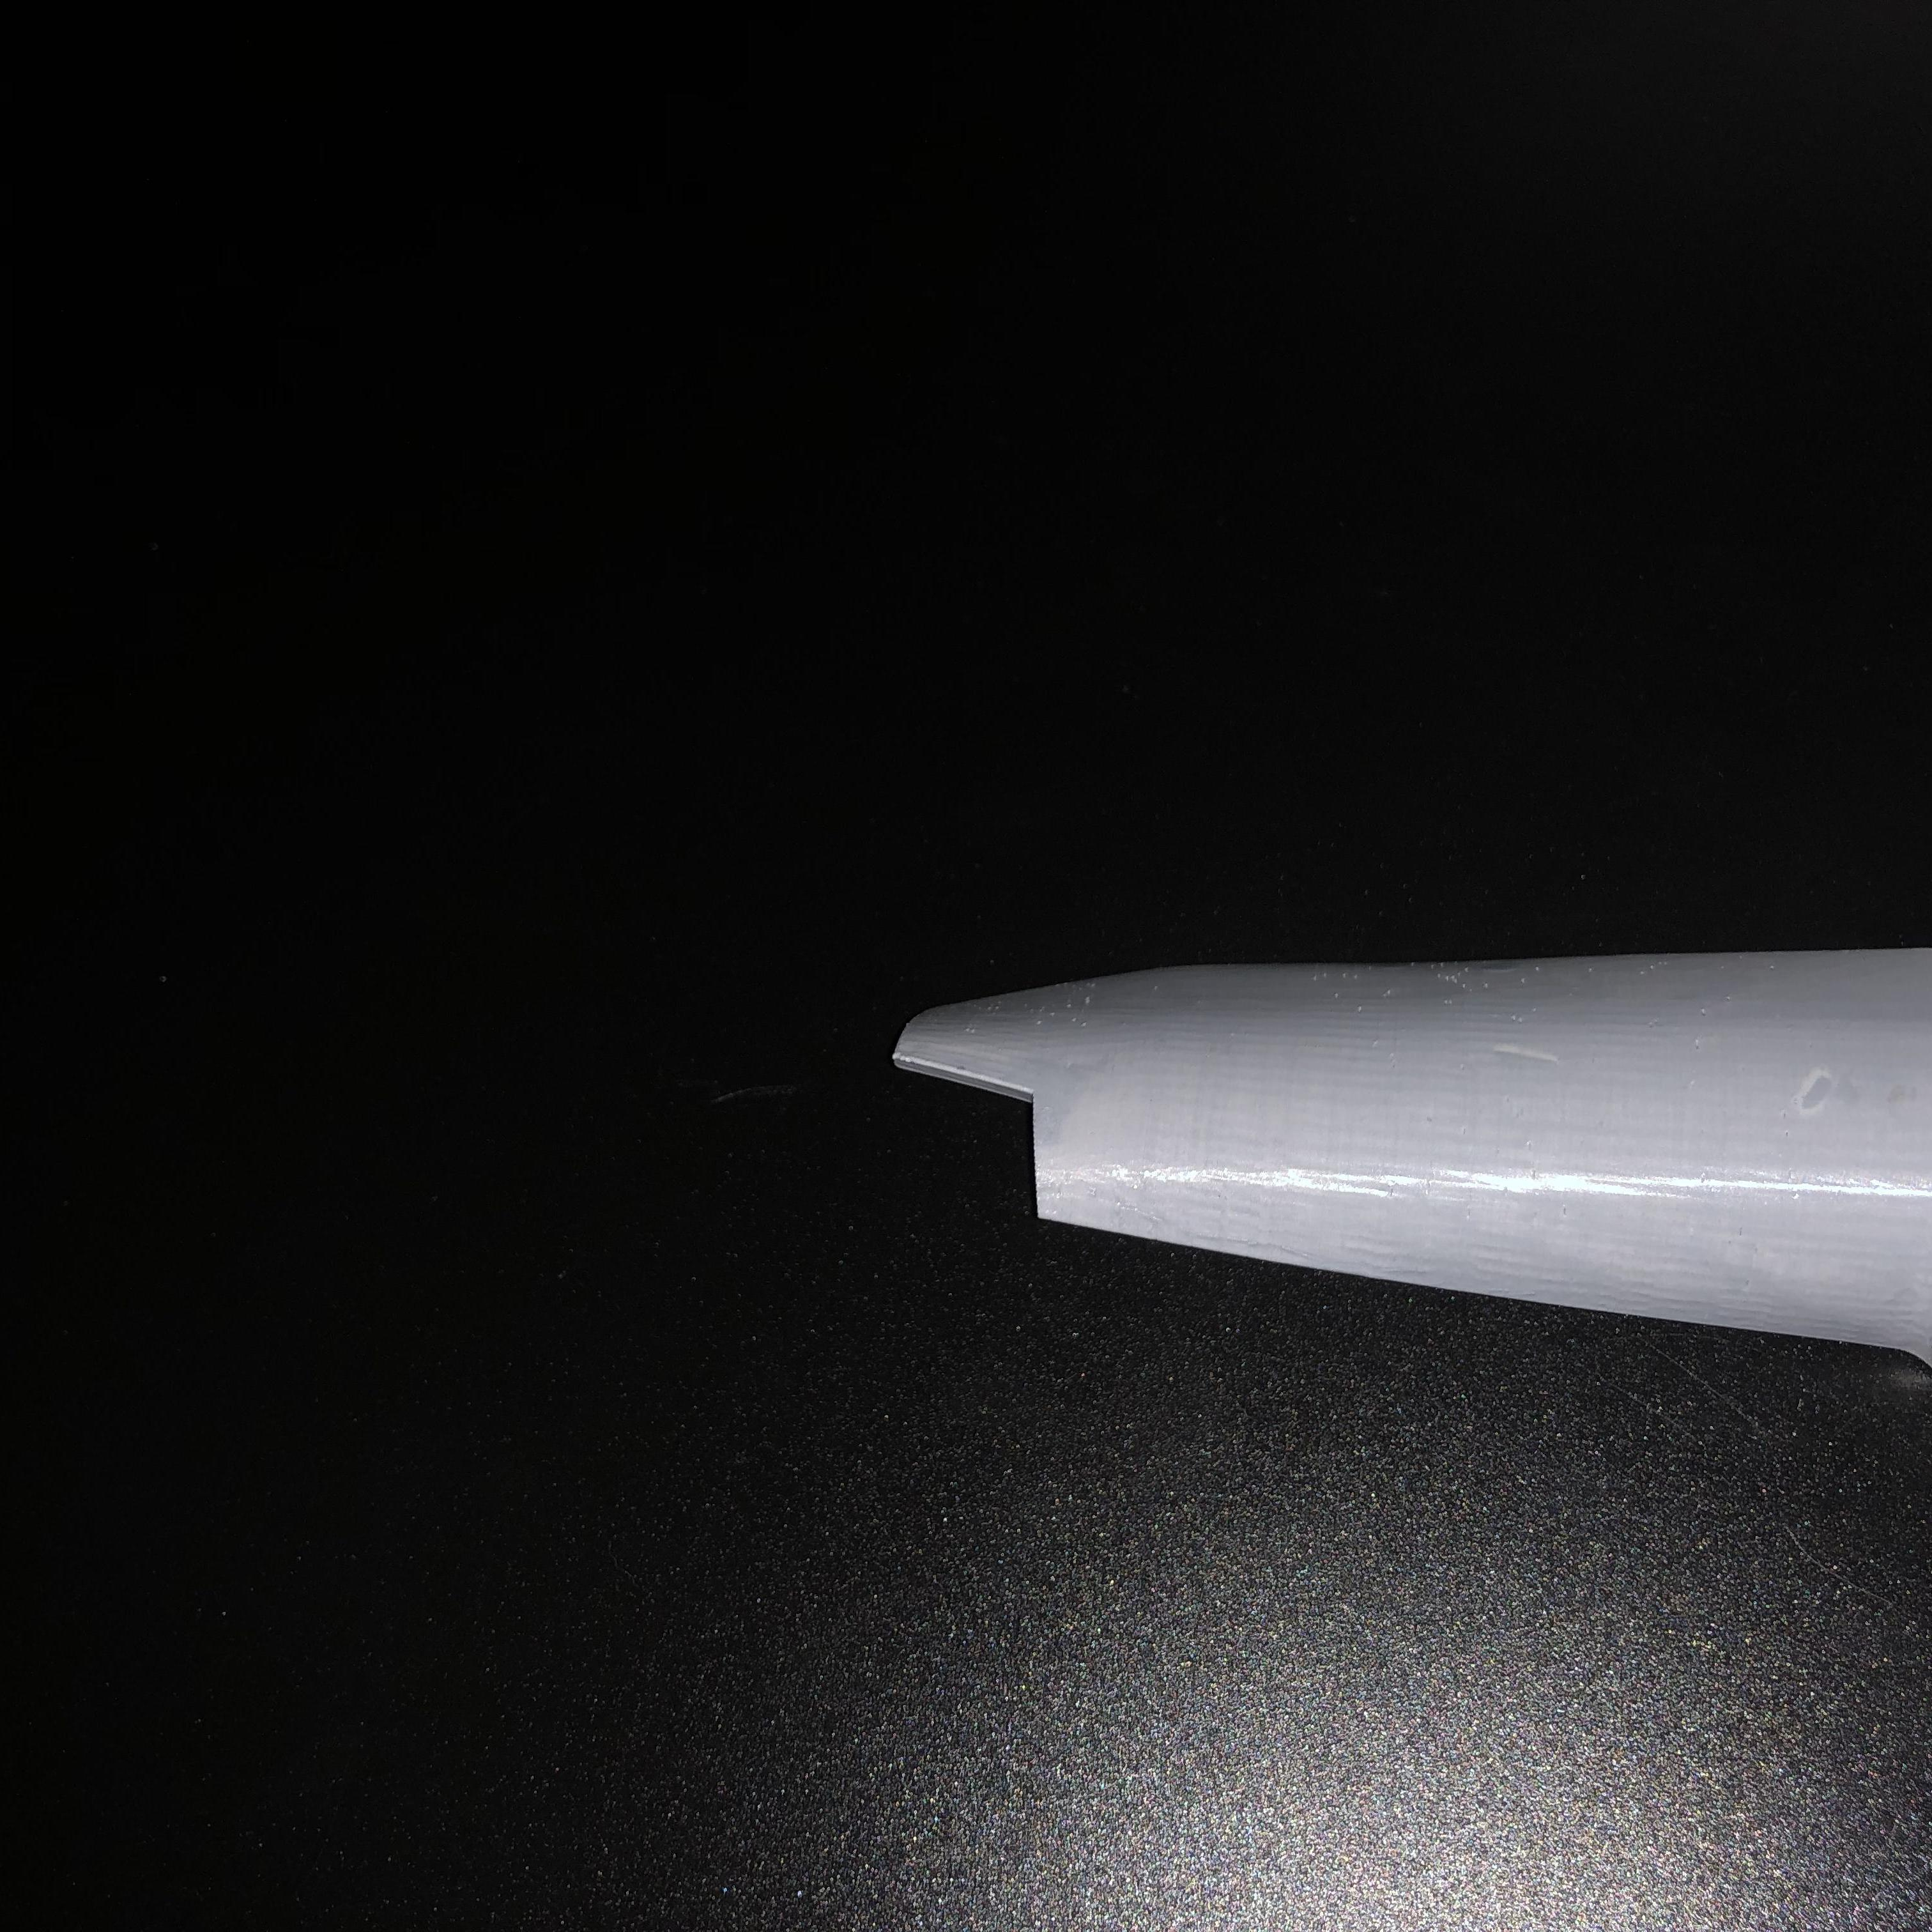fracture: (906, 1046, 1081, 1228)
